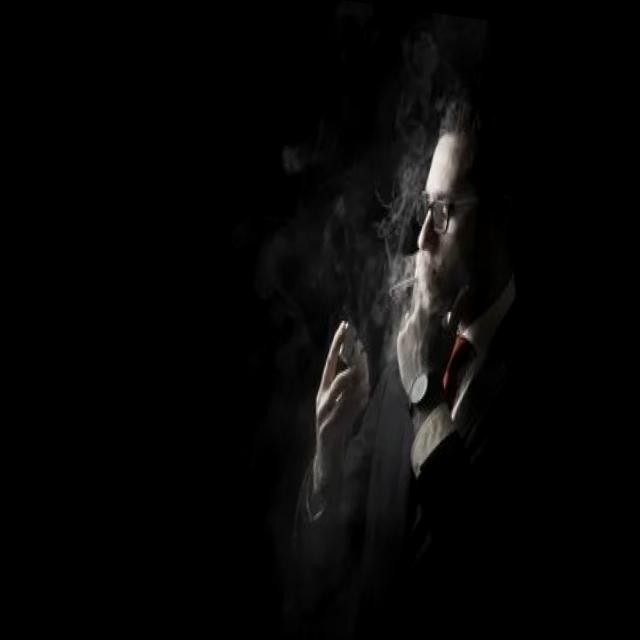cigarette: (386, 270, 422, 305)
